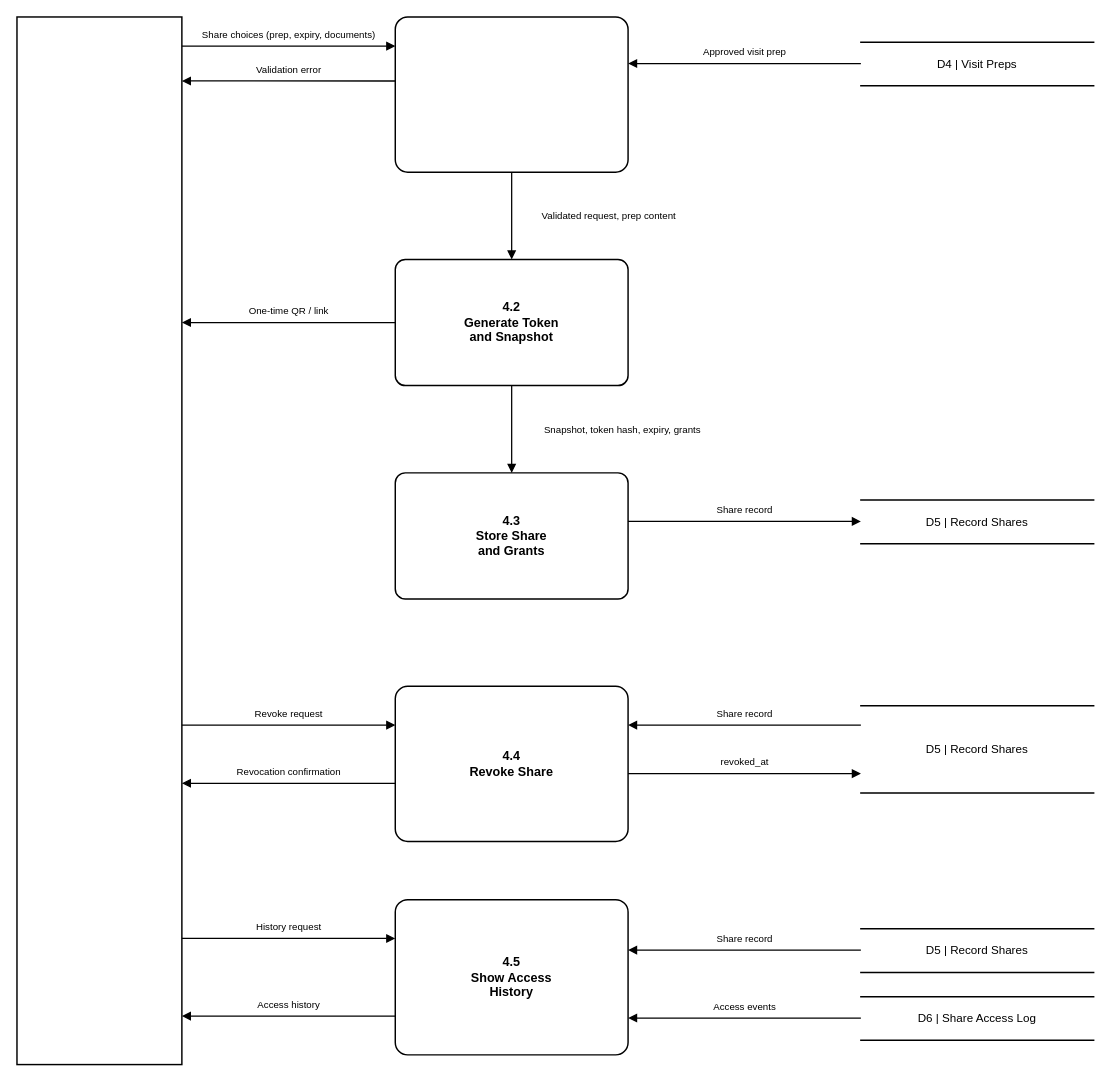
This 1112x1083 diagram has some shape labels left out. Here are the shapes that lost their labels. From the top down, the centre of each, then its label:
(x=511, y=94): 4.1 Validate Share Request
(x=99, y=540): Patient
